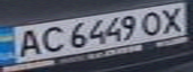4: (87, 17, 109, 46), (103, 15, 124, 44)
6: (66, 19, 90, 49)
9: (118, 12, 142, 42)
A: (9, 27, 45, 58)
C: (33, 24, 66, 55)
O: (136, 8, 169, 37)
X: (154, 4, 190, 34)
